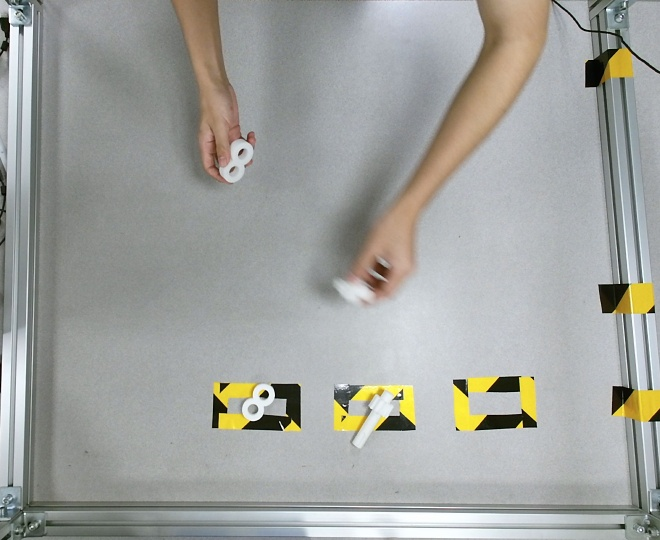stage_1: (218, 139, 253, 183)
